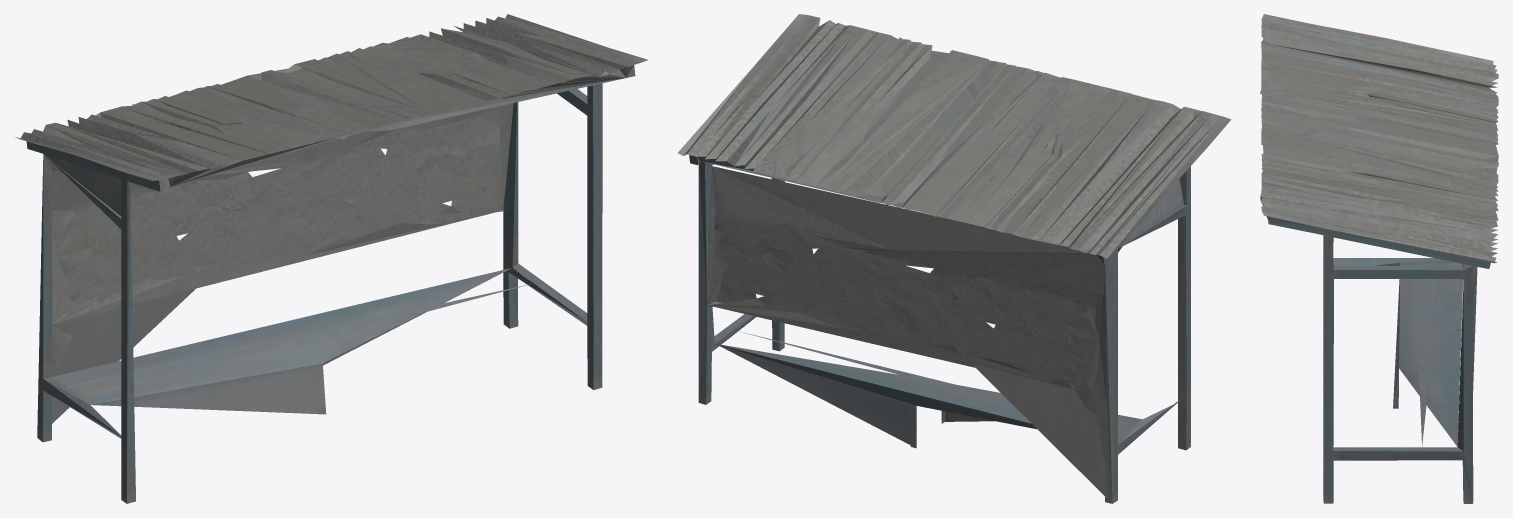
The model's file is busstop.glb.
3 renders of one model, left to right at view 1: azimuth 30°, elevation 25°; view 2: azimuth 150°, elevation 25°; view 3: azimuth 270°, elevation 25°, orthographic. The views are drawn at different scales.
Bounding box in the file's own units: 1.9 × 1.29 × 0.9509.
1 material, 1 textured.
